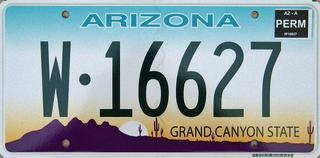placa de veiculo: (4, 3, 317, 152)
